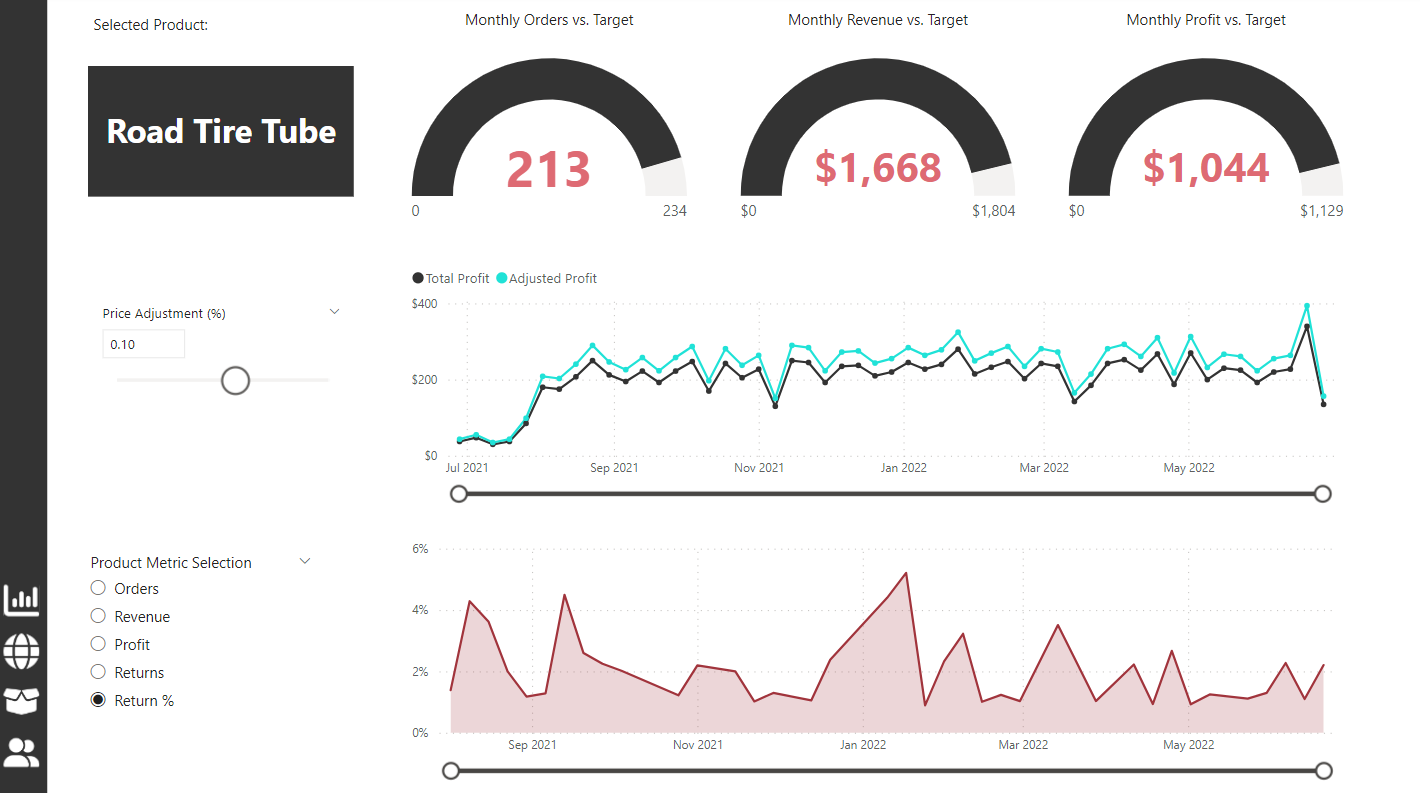

This screenshot's page, from the dashboard's own definition file:
{"tool":"powerbi","page":{"name":"Product Detail","canvas":[1280,720],"ordinal":2},"visuals":[{"type":"shape","box":[0,0,45,720],"z":0},{"type":"actionButton","box":[1.8,521.2,51.9,40.3],"z":1000,"group":"g1"},{"type":"gauge","title":"Monthly Orders vs. Target","fields":{"Y":["Measure Table.Total Orders"],"MaxValue":["Measure Table.Order Target"]},"box":[366.7,11.6,256.6,221.5],"z":1000},{"type":"gauge","title":"Monthly Revenue vs. Target","fields":{"Y":["Measure Table.Total Revenue"],"MaxValue":["Measure Table.Revenue Target"]},"box":[660.9,11.6,256.1,221.2],"z":2000},{"type":"actionButton","box":[1.8,657.3,51.9,40.3],"z":2000,"group":"g1"},{"type":"gauge","title":"Monthly Profit vs. Target","fields":{"Y":["Measure Table.Total Profit"],"MaxValue":["Measure Table.Profit Target"]},"box":[954.6,11.6,256.1,221.2],"z":3000},{"type":"actionButton","box":[1.8,611.9,51.9,40.3],"z":3000,"group":"g1"},{"type":"actionButton","box":[1.8,566.6,51.9,40.3],"z":4000,"group":"g1"},{"type":"lineChart","title":"Profit Trending","fields":{"Category":["Calendar Lookup.Date Hierarchy.Start of Year","Calendar Lookup.Date Hierarchy.Start of Month","Calendar Lookup.Date Hierarchy.Start of Week","Calendar Lookup.Date Hierarchy.Date"],"Y":["Measure Table.Total Profit","Measure Table.Adjusted Profit"]},"box":[366.3,232.8,850.7,223.9],"z":4000},{"type":"areaChart","title":"Return Trending","fields":{"Y":["Measure Table.Return Rate"],"Category":["Calendar Lookup.Date Hierarchy.Start of Year","Calendar Lookup.Date Hierarchy.Start of Month","Calendar Lookup.Date Hierarchy.Start of Week","Calendar Lookup.Date Hierarchy.Date"]},"box":[366.3,480.9,850.7,223.9],"z":5000},{"type":"card","fields":{"Values":["Min(Product Lookup.ProductName)"]},"box":[81.5,62.7,238.2,117.3],"z":6000},{"type":"textbox","box":[81.5,11.6,184.5,51],"z":7000},{"type":"group","id":"g1","title":"Navigation Keys","box":[1.8,521.2,51.9,176.4],"z":8000},{"type":"slicer","fields":{"Values":["Price Adjustment (%).Price Adjustment (%)"]},"box":[81.5,270.4,238.2,112.8],"z":9000},{"type":"slicer","fields":{"Values":["Product Metric Selection.Product Metric Selection"]},"box":[70.7,493.4,223,158.5],"z":10000}]}

Visuals, with their boxes on the page's 1280x720 design canvas (x1, y1, x2, y2). These are canvas units, not pixel positions in the 1420x793 screenshot, which may show the page scaled, cropped or inside an application window:
shape: [0, 0, 45, 720]
actionButton: [2, 521, 54, 562]
"Monthly Orders vs. Target" gauge: [367, 12, 623, 233]
"Monthly Revenue vs. Target" gauge: [661, 12, 917, 233]
actionButton: [2, 657, 54, 698]
"Monthly Profit vs. Target" gauge: [955, 12, 1211, 233]
actionButton: [2, 612, 54, 652]
actionButton: [2, 567, 54, 607]
"Profit Trending" lineChart: [366, 233, 1217, 457]
"Return Trending" areaChart: [366, 481, 1217, 705]
card - Min(Product Lookup.ProductName): [82, 63, 320, 180]
textbox: [82, 12, 266, 63]
"Navigation Keys" group: [2, 521, 54, 698]
slicer - Price Adjustment (%).Price Adjustment (%): [82, 270, 320, 383]
slicer - Product Metric Selection.Product Metric Selection: [71, 493, 294, 652]
